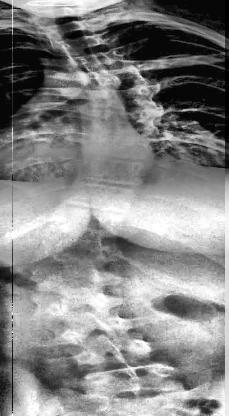Vertebrae: (46, 314, 148, 348), (36, 284, 128, 320), (84, 363, 176, 397), (69, 336, 159, 366), (35, 240, 121, 270), (42, 210, 122, 242), (33, 263, 121, 291), (74, 154, 150, 186), (57, 184, 135, 214), (82, 136, 158, 162), (80, 65, 150, 89), (93, 101, 157, 127), (86, 124, 156, 146), (86, 86, 158, 107), (68, 50, 130, 72), (48, 34, 106, 53), (40, 21, 100, 38)
